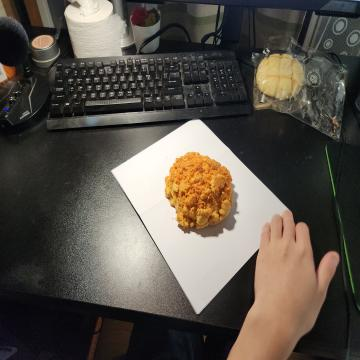soboru_bread: (163, 152, 233, 233)
